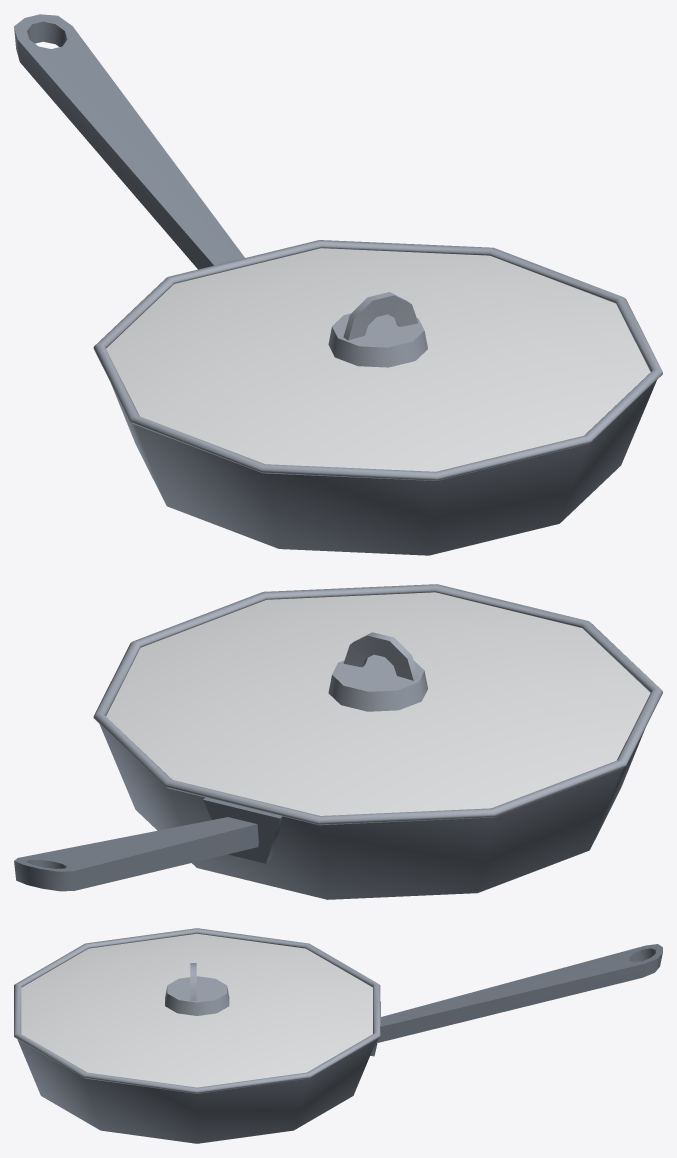
Rendered from Pan_Saute_Pan.glb.
The picture shows the model from 3 angles, top to bottom: view 1: azimuth 30°, elevation 25°; view 2: azimuth 150°, elevation 25°; view 3: azimuth 270°, elevation 25°; orthographic projection. The views are drawn at different scales.
Parts seen in each view (by area): view 1: pan_saute_pan_lid_Cylinder.079, pan_saute_pan_Cylinder.078; view 2: pan_saute_pan_lid_Cylinder.079, pan_saute_pan_Cylinder.078; view 3: pan_saute_pan_lid_Cylinder.079, pan_saute_pan_Cylinder.078.
Boxes of the visible parts, <box> form: pan_saute_pan_lid_Cylinder.079: <box>93,240,662,480</box>; pan_saute_pan_Cylinder.078: <box>14,14,656,555</box>; pan_saute_pan_lid_Cylinder.079: <box>93,584,662,825</box>; pan_saute_pan_Cylinder.078: <box>14,592,650,899</box>; pan_saute_pan_lid_Cylinder.079: <box>14,928,380,1093</box>; pan_saute_pan_Cylinder.078: <box>17,933,662,1143</box>.
Size of the model in its own units: 6.86 by 2.73 by 11.55.
2 materials, 2 textured.
